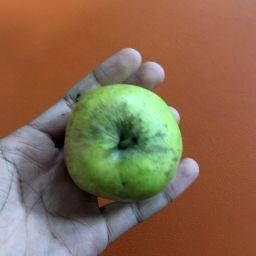apple: (53, 70, 195, 215)
